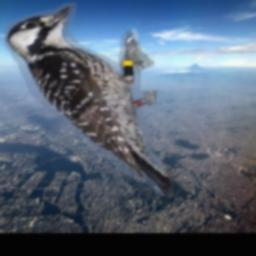Woodpecker: (4, 3, 173, 196)
